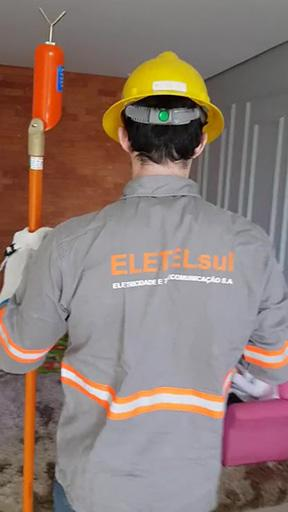Detector_Tensao_Contato: (29, 8, 67, 131)
Vara_Manobra: (23, 127, 45, 512)
